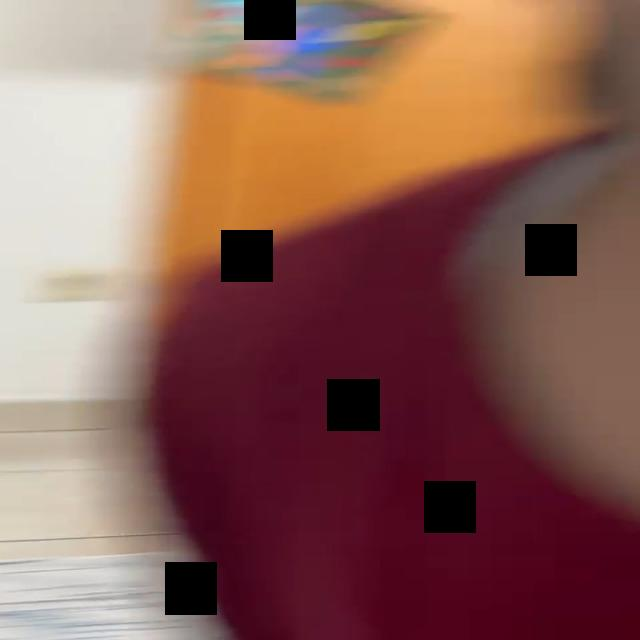authorized: (131, 0, 637, 638)
